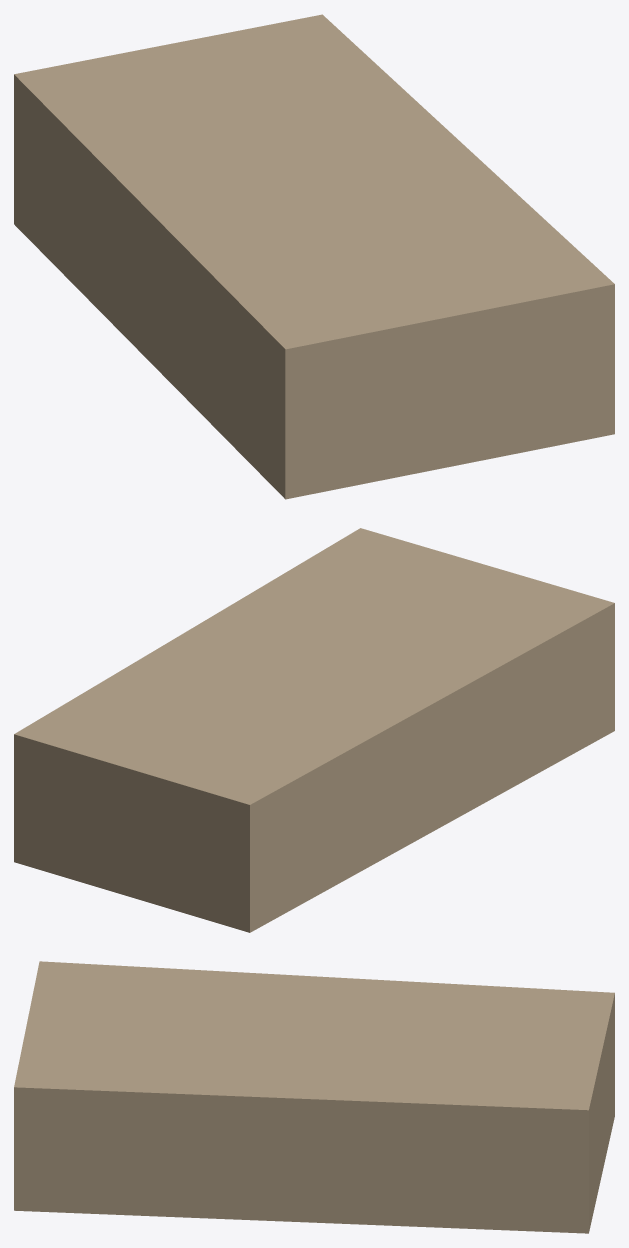
Rendered from bld_49071568.dae.
3 renders of one model, top to bottom at view 1: azimuth 30°, elevation 25°; view 2: azimuth 150°, elevation 25°; view 3: azimuth 270°, elevation 25°, orthographic. The views are drawn at different scales.
Visible parts, largest first — view 1: bld_49071568; view 2: bld_49071568; view 3: bld_49071568.
Boxes of the visible parts, x1,y1,x2,y2 form: bld_49071568: [14, 14, 614, 499]; bld_49071568: [14, 528, 614, 932]; bld_49071568: [14, 961, 614, 1233].
Size of the model in its own units: 20.7 by 35.31 by 8.
